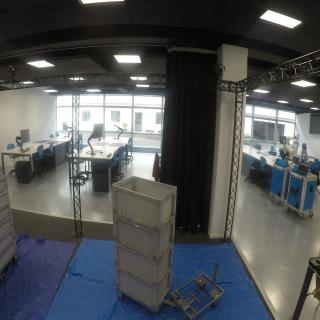Box4G: (112, 175, 180, 233), (114, 214, 178, 264), (114, 241, 177, 288), (115, 265, 175, 313)
